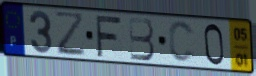0: (202, 22, 225, 67)
3: (28, 9, 53, 55)
B: (127, 16, 157, 63)
C: (167, 20, 197, 65)
F: (93, 13, 123, 58)
Z: (53, 11, 88, 58)
